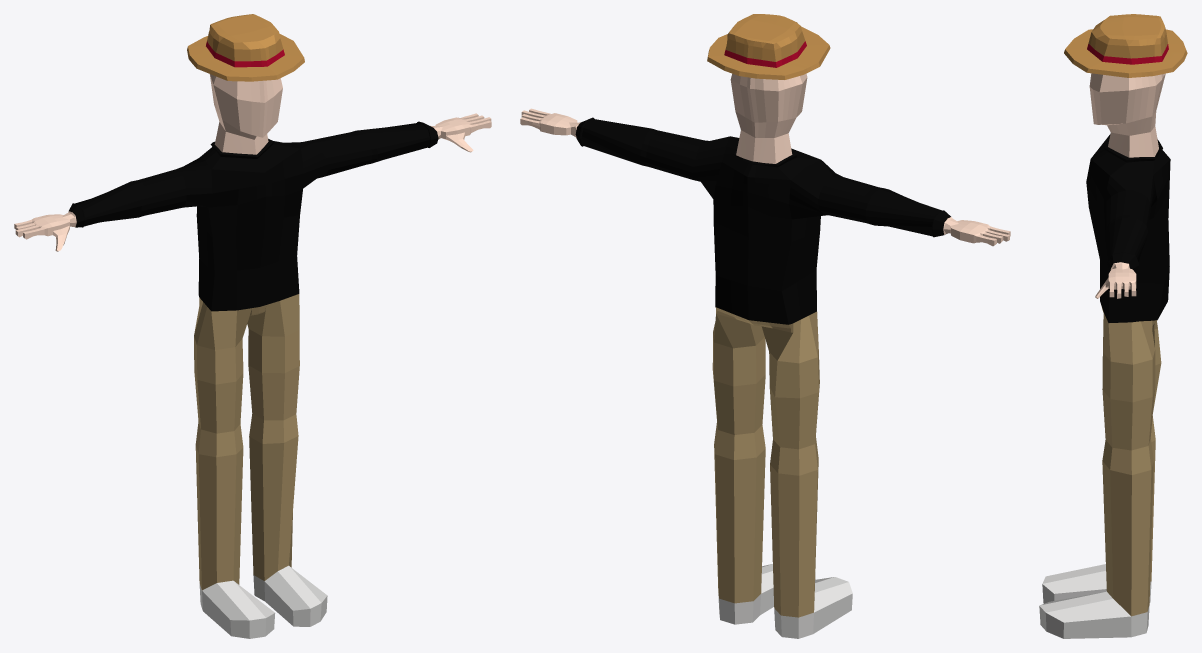
Rendered from playerBD.fbx.
3 views of the same model, side by side, from view 1: azimuth 30°, elevation 25°; view 2: azimuth 150°, elevation 25°; view 3: azimuth 270°, elevation 25° (orthographic). The views are drawn at different scales.
Parts seen in each view (by area): view 1: Cube.004; view 2: Cube.004; view 3: Cube.004.
Boxes of the visible parts, x1,y1,x2,y2 form: Cube.004: (14,14,491,638); Cube.004: (520,14,1010,638); Cube.004: (1039,14,1187,638).
Bounding box in the file's own units: 230 × 268 × 61.15.
